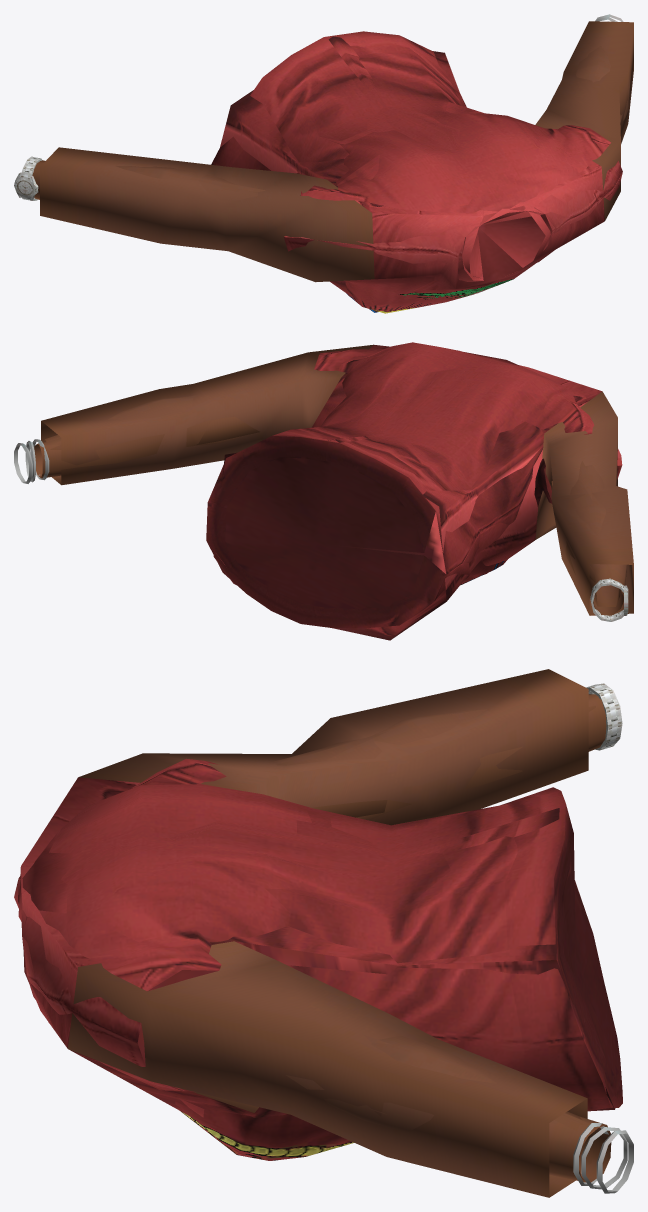
The model's file is uppr_001_r.obj.
3 renders of one model, top to bottom at view 1: azimuth 30°, elevation 25°; view 2: azimuth 150°, elevation 25°; view 3: azimuth 270°, elevation 25°, orthographic. The views are drawn at different scales.
Visible parts, largest first — view 1: uppr_001_r_low_1, uppr_001_r_high_1, uppr_001_r_med_1; view 2: uppr_001_r_high_1, uppr_001_r_low_1, uppr_001_r_med_1; view 3: uppr_001_r_low_1, uppr_001_r_high_1, uppr_001_r_med_1.
Boxes of the visible parts, box(x1,y1,x2,y2) form: uppr_001_r_low_1: box(40, 21, 633, 312); uppr_001_r_high_1: box(14, 14, 630, 313); uppr_001_r_med_1: box(119, 47, 628, 290); uppr_001_r_high_1: box(14, 342, 628, 628); uppr_001_r_low_1: box(41, 344, 633, 640); uppr_001_r_med_1: box(44, 349, 621, 606); uppr_001_r_low_1: box(18, 669, 615, 1197); uppr_001_r_high_1: box(18, 683, 633, 1193); uppr_001_r_med_1: box(14, 705, 608, 1170).
Size of the model in its own units: 0.9468 by 0.2871 by 0.5288.
